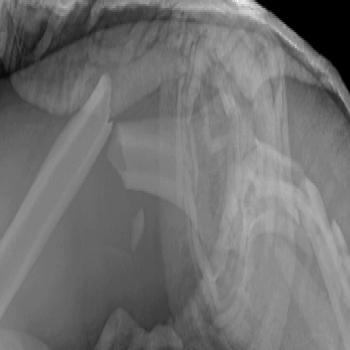Fracture: (99, 64, 128, 202)
